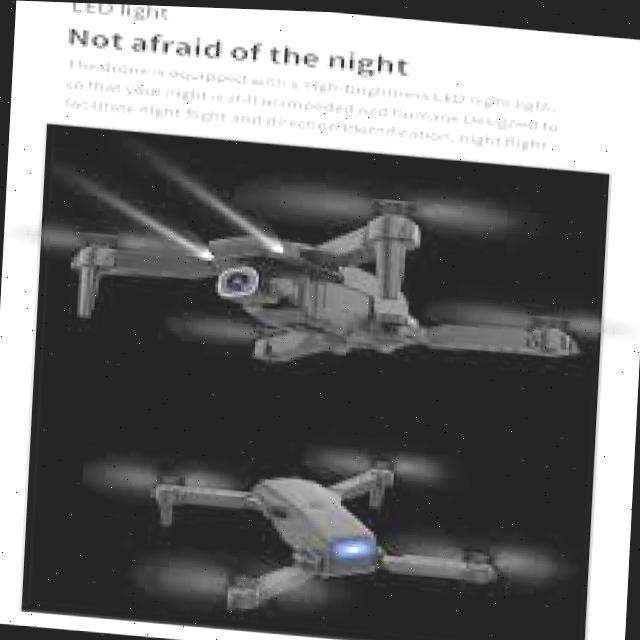drone: (32, 118, 608, 413), (79, 412, 562, 640)
